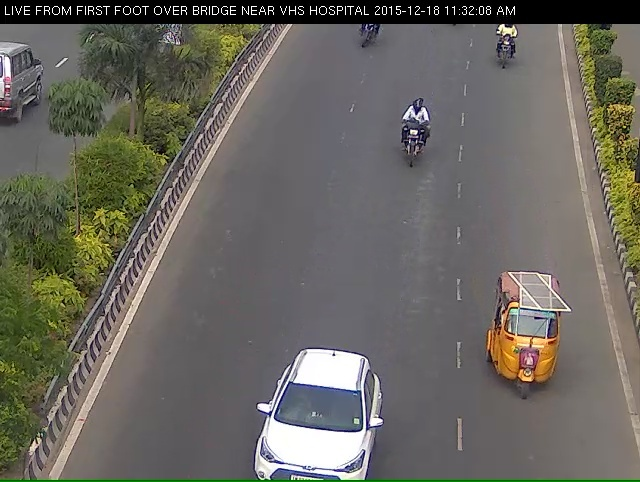Car: (481, 279, 577, 422)
Person: (387, 104, 439, 182), (489, 19, 525, 77), (348, 21, 382, 65)
